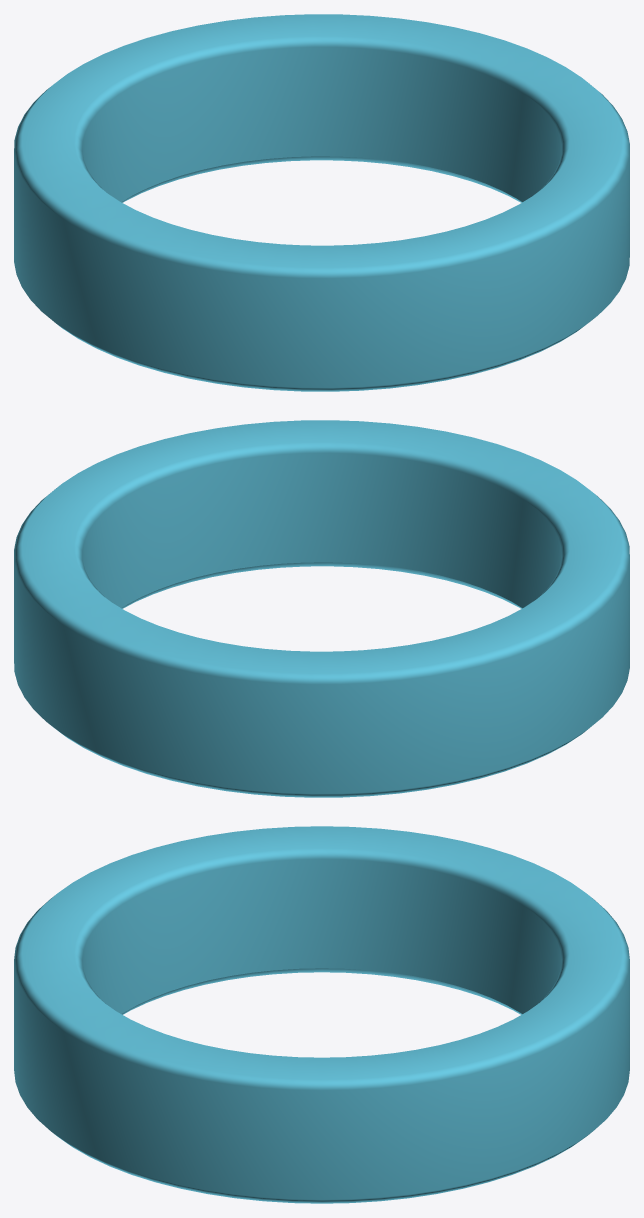
The picture shows the model from 3 angles, top to bottom: view 1: azimuth 30°, elevation 25°; view 2: azimuth 150°, elevation 25°; view 3: azimuth 270°, elevation 25°; orthographic projection.
Parts seen in each view (by area): view 1: seal_body; view 2: seal_body; view 3: seal_body.
Boxes of the visible parts, x1,y1,x2,y2 form: seal_body: (14,14,629,391); seal_body: (14,420,629,797); seal_body: (14,826,629,1203).
Size of the model in its own units: 0.0286 by 0.00635 by 0.0286.
